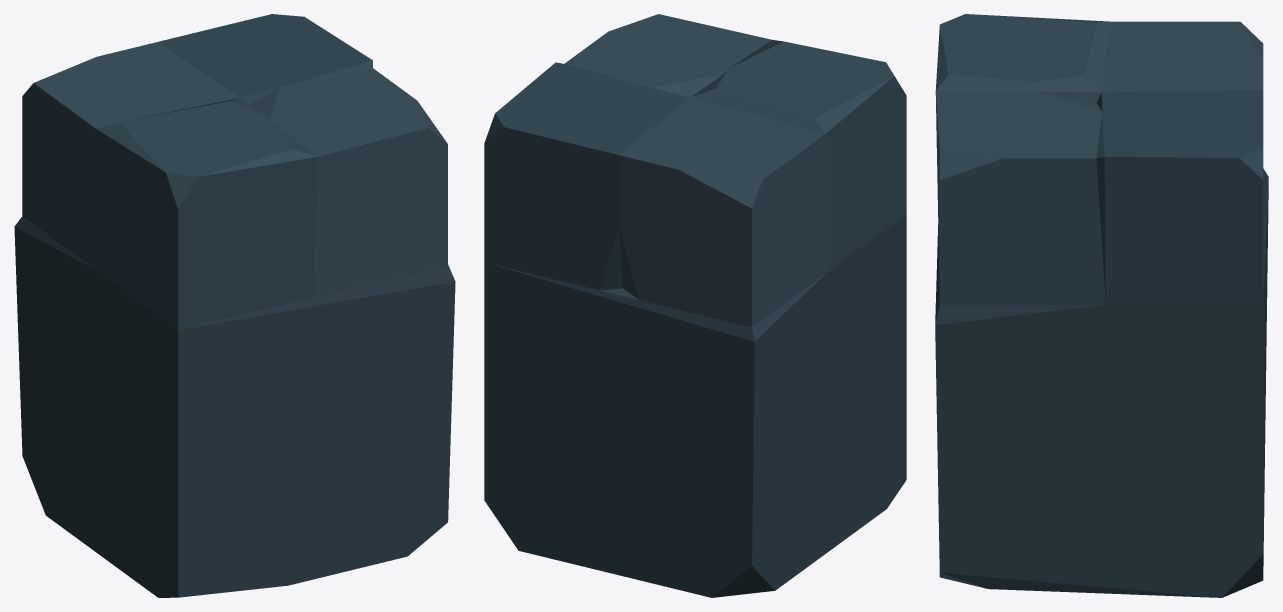
File: level_element_2x2x3.fbx
3 renders of one model, left to right at view 1: azimuth 30°, elevation 25°; view 2: azimuth 150°, elevation 25°; view 3: azimuth 270°, elevation 25°, orthographic. The views are drawn at different scales.
Parts seen in each view (by area): view 1: level_element_2x2x3; view 2: level_element_2x2x3; view 3: level_element_2x2x3.
Part boxes in pixels (x1,y1,x2,y2): level_element_2x2x3: (14, 14, 455, 597); level_element_2x2x3: (484, 14, 906, 597); level_element_2x2x3: (935, 14, 1268, 597).
Size of the model in its own units: 208 by 305 by 206.
